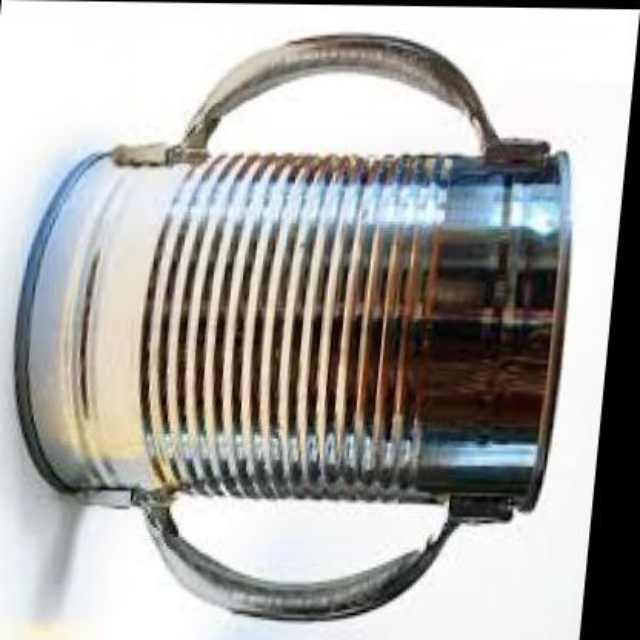trash: (14, 32, 569, 618), (171, 492, 432, 582), (208, 72, 480, 157)
